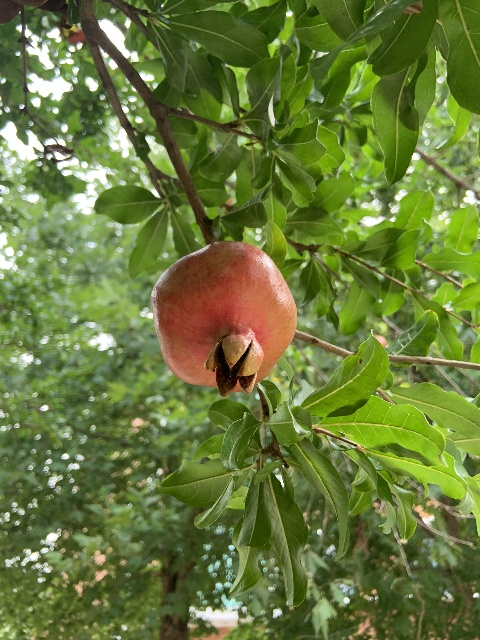ripe: (152, 240, 297, 397)
